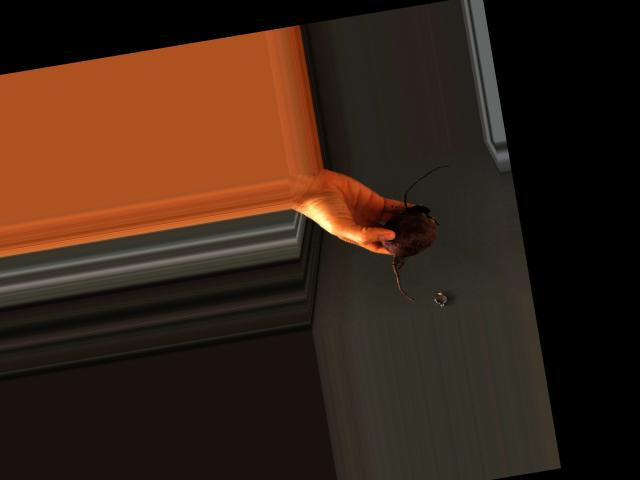beet: (370, 164, 470, 305)
